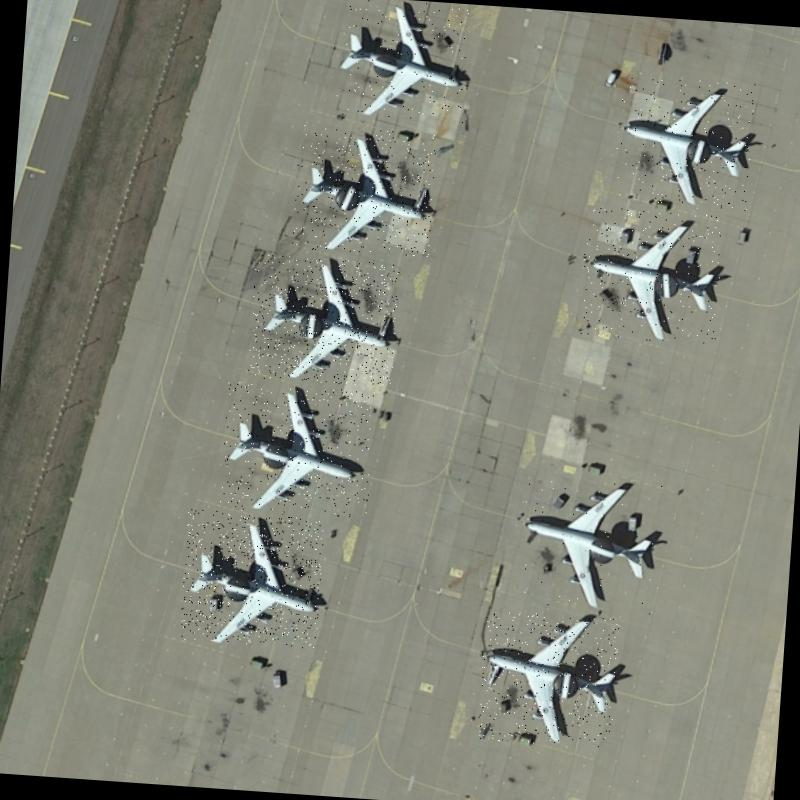A7: (218, 381, 376, 520), (513, 474, 662, 614), (247, 254, 400, 388), (178, 508, 324, 648), (578, 206, 724, 344), (611, 74, 755, 212), (477, 610, 620, 748), (292, 125, 436, 258), (334, 0, 473, 123)
